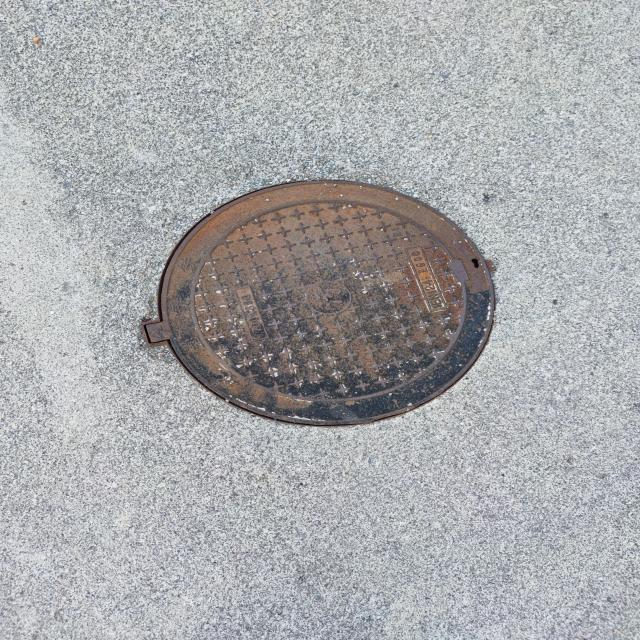Good: (140, 174, 502, 436)
